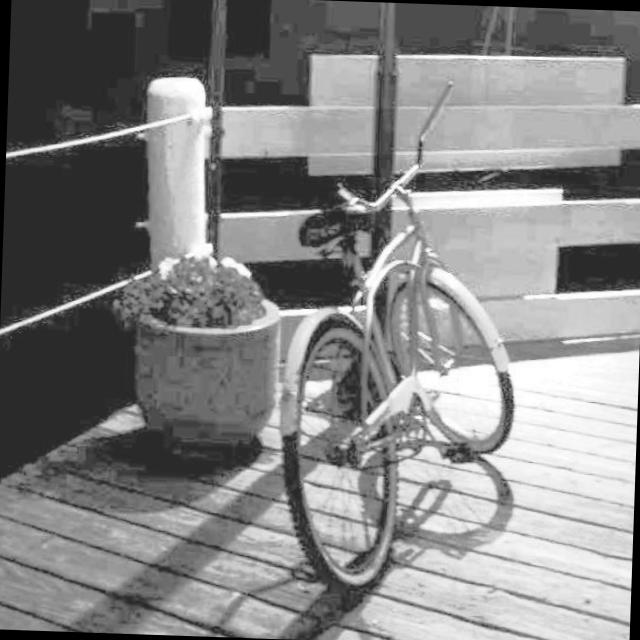Bicycle: (281, 132, 532, 585)
